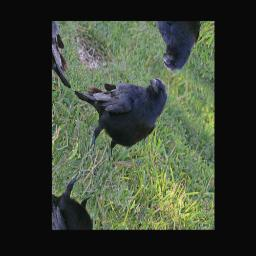Crow: (58, 28, 174, 185)
